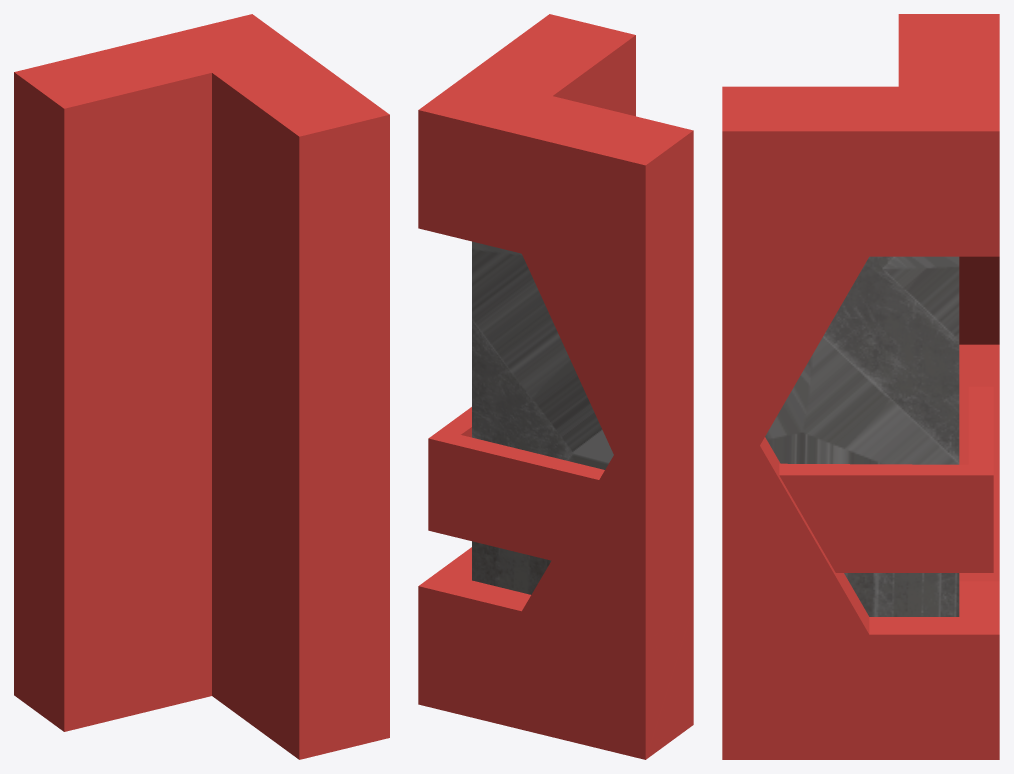
Rendered from Dimond_short_corner.fbx.
3 renders of one model, left to right at view 1: azimuth 30°, elevation 25°; view 2: azimuth 150°, elevation 25°; view 3: azimuth 270°, elevation 25°, orthographic. The views are drawn at different scales.
Parts seen in each view (by area): view 1: Cylinder.024; view 2: Cylinder.024; view 3: Cylinder.024.
Boxes of the visible parts, x1,y1,x2,y2 form: Cylinder.024: (14,14,389,759); Cylinder.024: (418,14,693,759); Cylinder.024: (722,14,999,759).
Bounding box in the file's own units: 400 × 1000 × 400.
